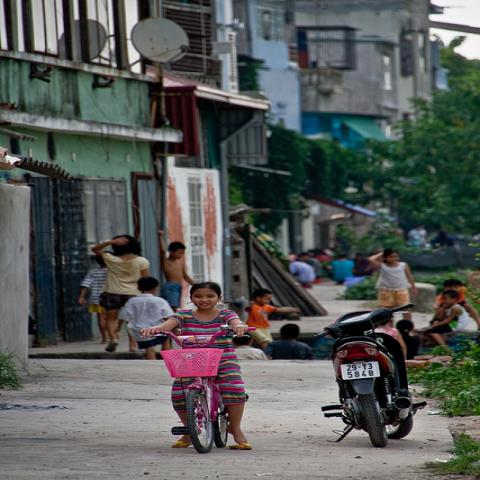motorcycle: (306, 303, 429, 449)
